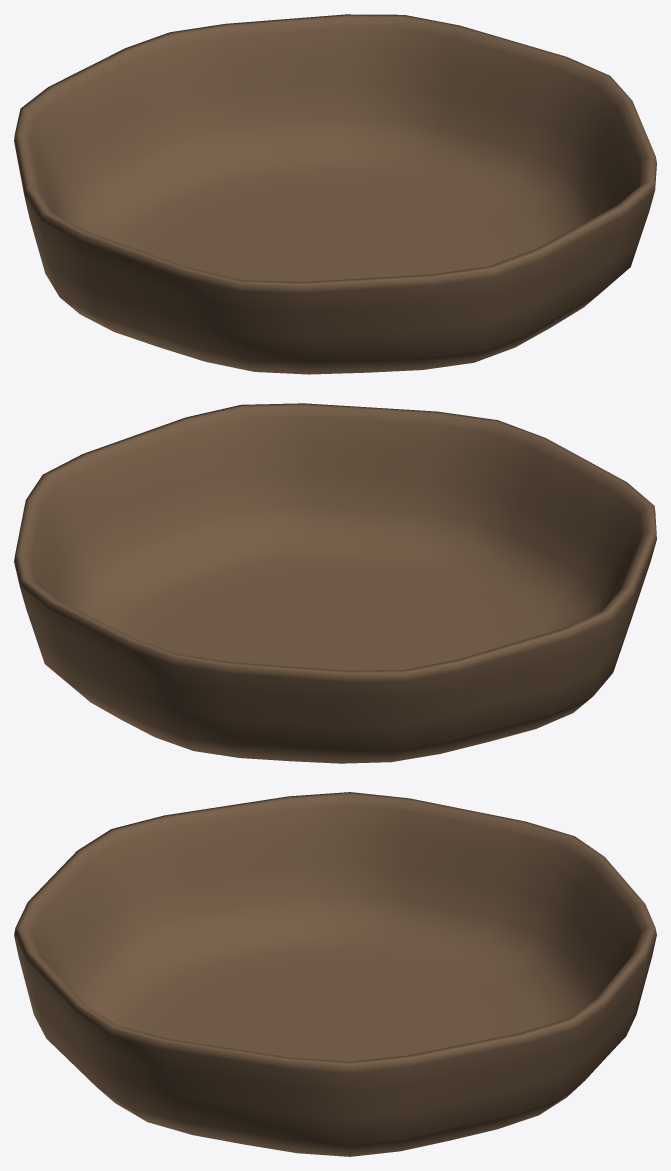
File: Pie_base.fbx
3 views of the same model, one above another, from view 1: azimuth 30°, elevation 25°; view 2: azimuth 150°, elevation 25°; view 3: azimuth 270°, elevation 25° (orthographic).
Visible parts, largest first — view 1: Base_Smooth; view 2: Base_Smooth; view 3: Base_Smooth.
Part boxes in pixels (x1,y1,x2,y2): Base_Smooth: (14, 14, 656, 374); Base_Smooth: (14, 403, 656, 763); Base_Smooth: (14, 792, 656, 1156).
Size of the model in its own units: 214 by 41.73 by 211.
